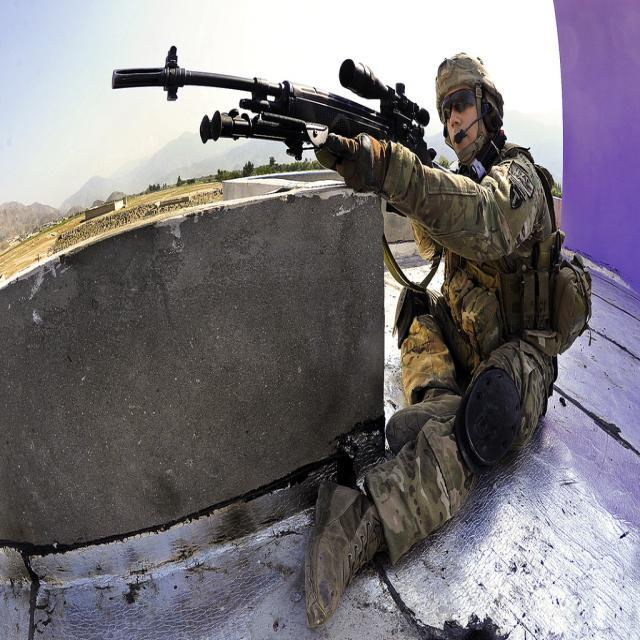weapon: (110, 44, 437, 215)
